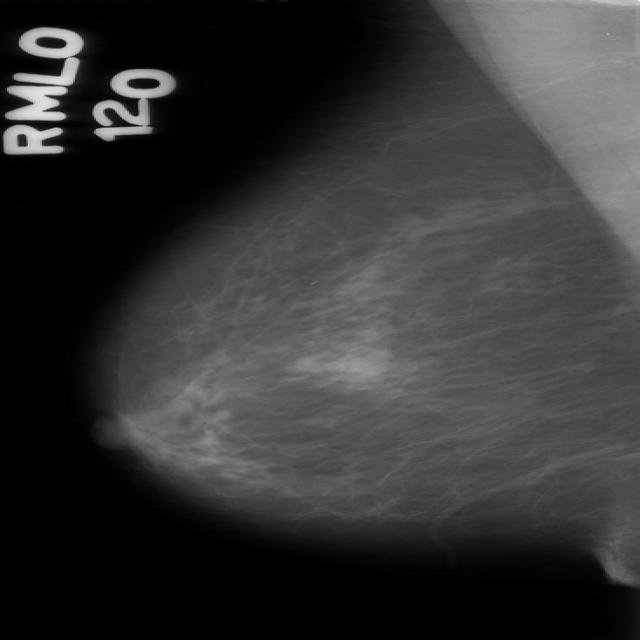tumour: (302, 346, 387, 381)
